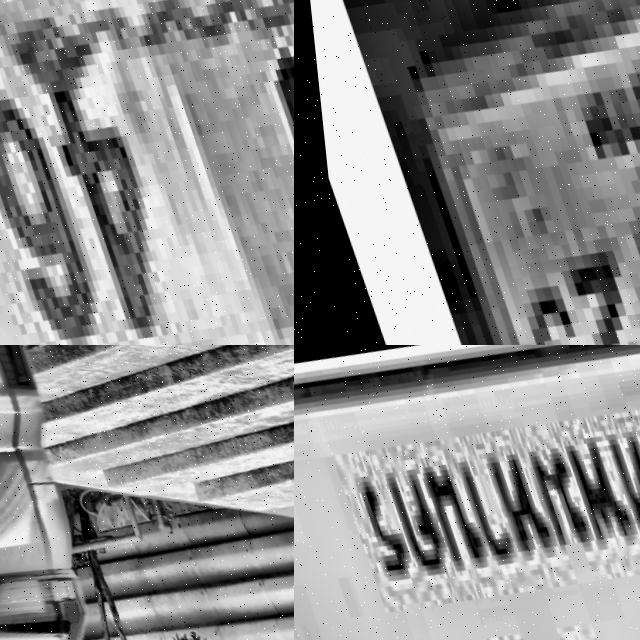license-plate: (306, 0, 640, 345), (294, 345, 640, 640), (0, 0, 294, 345)
